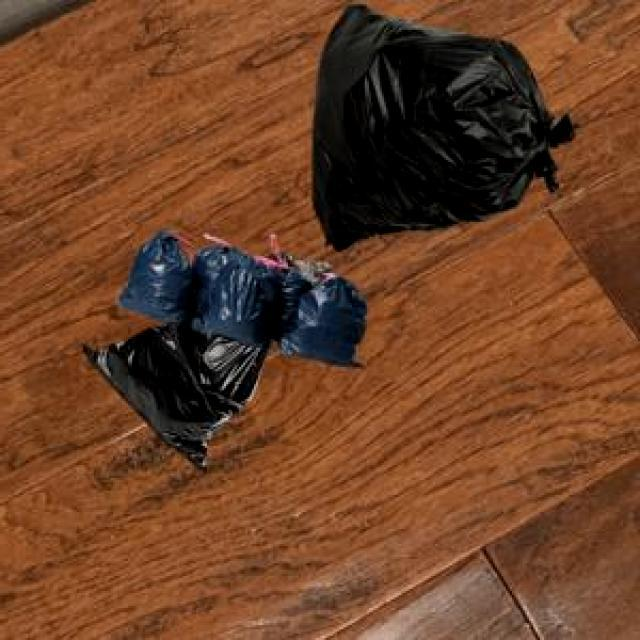Trashbag: (304, 5, 556, 256), (283, 279, 374, 373), (114, 229, 195, 320), (205, 252, 278, 343)
